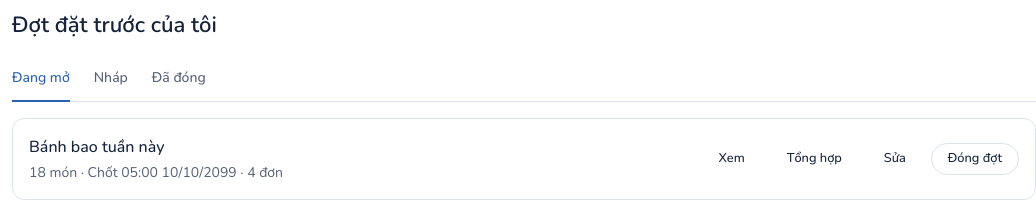
it: MyCampaigns › shows drafts under their tab with edit, publish and delete
This screenshot has width=1036, height=217.
What coordinates should you click on to do the following:
click the tab "Nháp"
I would click on:
 (111, 78)
Its box is [94, 56, 128, 102].
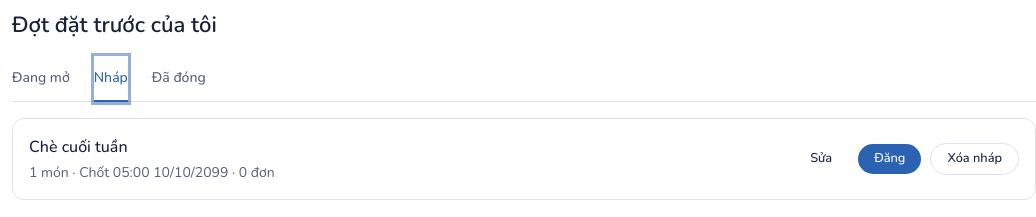
Expected: the list item reads "Chè cuối tuần 1 món · Chốt 05:00 10/10/2099 · 0 đơn Sửa Đăng Xóa nháp", [29, 162, 275, 182]
Expected: the button "Đăng" is shown, [857, 142, 922, 174]
Expected: the button "Xóa nháp" is shown, [930, 142, 1019, 174]
